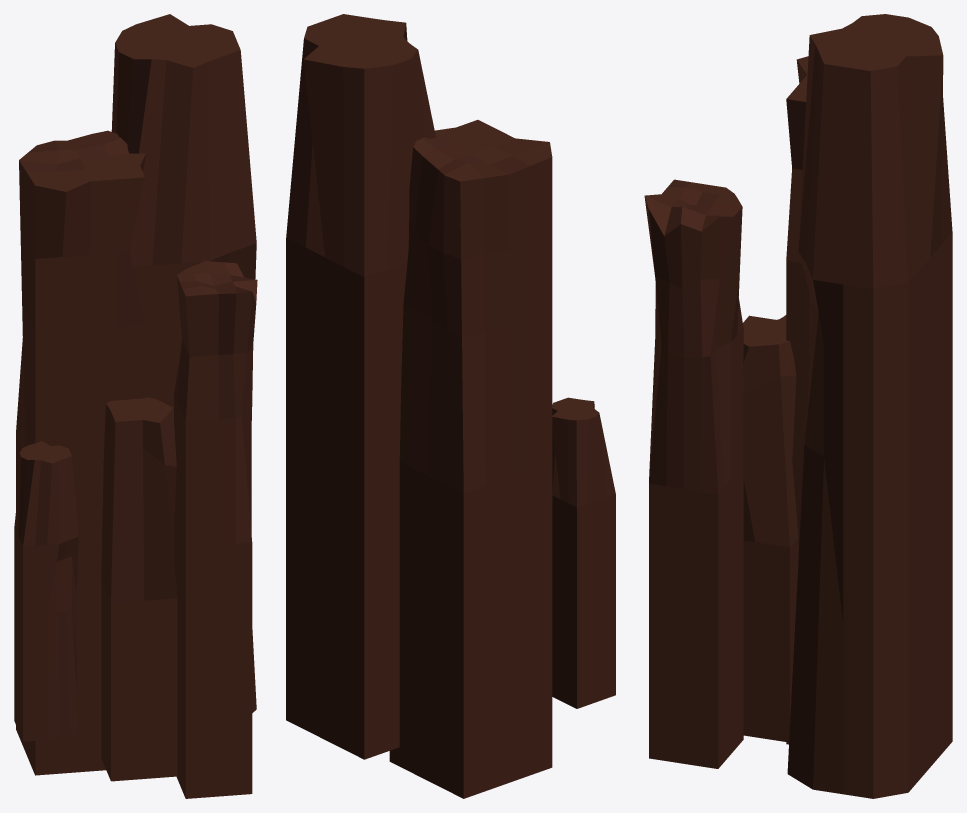
The model's file is sc_FeiTu_mesh_shan13.FBX.
The picture shows the model from 3 angles, left to right: view 1: azimuth 30°, elevation 25°; view 2: azimuth 150°, elevation 25°; view 3: azimuth 270°, elevation 25°; orthographic projection. The views are drawn at different scales.
Visible parts, largest first — view 1: mesh_shan13; view 2: mesh_shan13; view 3: mesh_shan13.
Boxes of the visible parts, x1,y1,x2,y2 form: mesh_shan13: (14, 14, 257, 798); mesh_shan13: (286, 14, 615, 798); mesh_shan13: (644, 14, 952, 798).
Size of the model in its own units: 573 by 1379 by 520.
